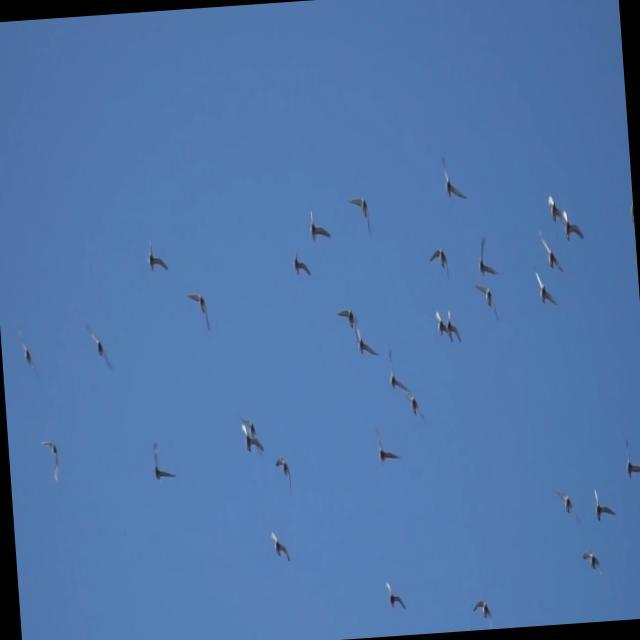bird: (80, 318, 117, 381), (437, 150, 468, 211), (147, 433, 176, 491), (183, 287, 214, 340), (533, 223, 562, 278), (345, 189, 373, 238), (38, 435, 64, 485), (237, 421, 263, 471), (384, 338, 405, 397), (142, 235, 170, 279), (381, 575, 408, 619), (533, 265, 557, 314), (307, 207, 334, 250), (474, 237, 499, 283), (269, 524, 295, 567), (620, 431, 640, 486), (352, 320, 378, 361), (554, 484, 580, 525), (591, 486, 617, 527), (579, 544, 605, 585), (475, 278, 499, 321), (560, 207, 583, 251), (443, 305, 462, 356), (15, 334, 36, 380), (375, 429, 398, 470), (424, 248, 451, 281), (271, 447, 293, 484), (288, 249, 312, 281), (406, 389, 425, 429), (335, 303, 357, 334), (545, 191, 561, 231), (469, 595, 491, 623), (432, 306, 448, 343), (636, 497, 640, 521)
